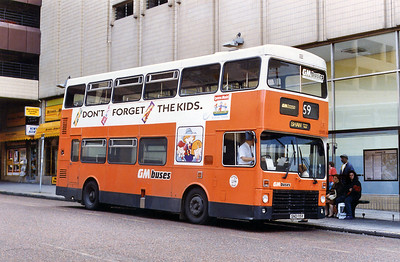bus: (55, 42, 329, 226)
